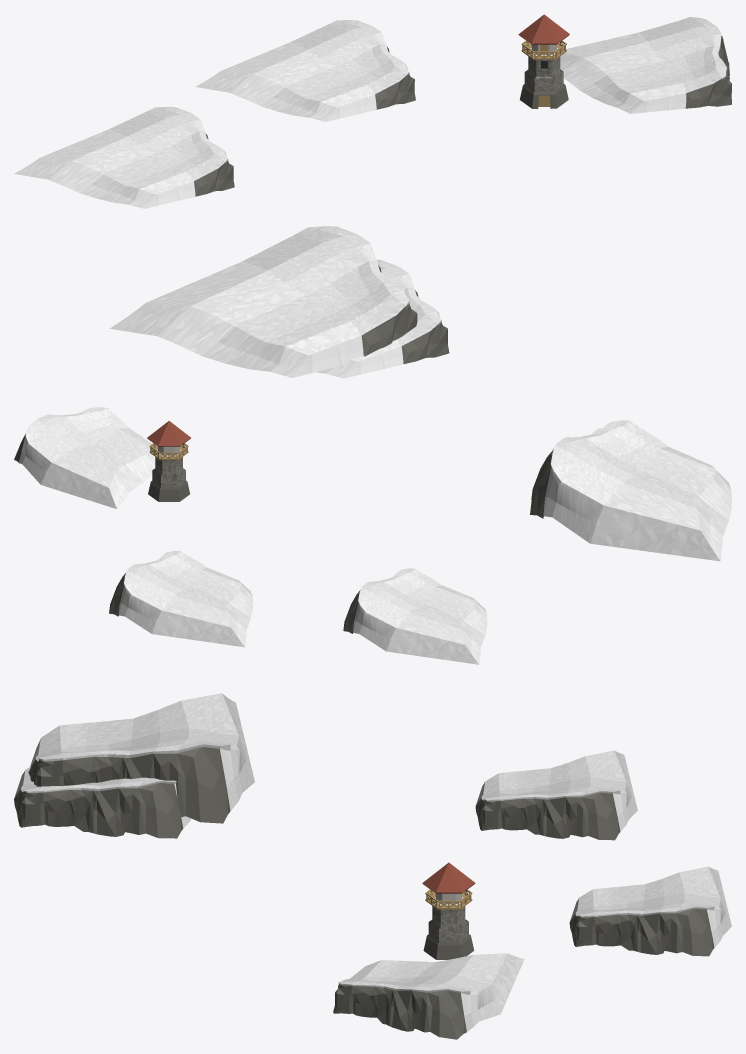
The model's file is titleProps.fbx.
3 views of the same model, one above another, from view 1: azimuth 30°, elevation 25°; view 2: azimuth 150°, elevation 25°; view 3: azimuth 270°, elevation 25° (orthographic). The views are drawn at different scales.
Visible parts, largest first — view 1: titleHill, titleHill 2, titleHill 3, titleHill 4, titleHill 1, titleTower; view 2: titleHill, titleHill 4, titleHill 3, titleHill 2, titleTower; view 3: titleHill, titleHill 4, titleHill 3, titleHill 2, titleHill 1, titleTower.
Part boxes in pixels (left/top/right/bottom): titleHill: left=110, top=226, right=417, bottom=377; titleHill 2: left=14, top=107, right=234, bottom=208; titleHill 3: left=195, top=20, right=415, bottom=121; titleHill 4: left=560, top=17, right=731, bottom=113; titleHill 1: left=316, top=259, right=449, bottom=378; titleTower: left=518, top=14, right=569, bottom=108; titleHill: left=530, top=420, right=731, bottom=561; titleHill 4: left=14, top=407, right=155, bottom=508; titleHill 3: left=109, top=550, right=252, bottom=647; titleHill 2: left=343, top=568, right=487, bottom=664; titleTower: left=147, top=421, right=190, bottom=501; titleHill: left=28, top=693, right=254, bottom=823; titleHill 4: left=333, top=953, right=524, bottom=1039; titleHill 3: left=569, top=866, right=731, bottom=956; titleHill 2: left=475, top=750, right=637, bottom=840; titleHill 1: left=14, top=766, right=191, bottom=838; titleTower: left=422, top=862, right=475, bottom=959.
Size of the model in its own units: 87.2 by 13.87 by 73.27.
